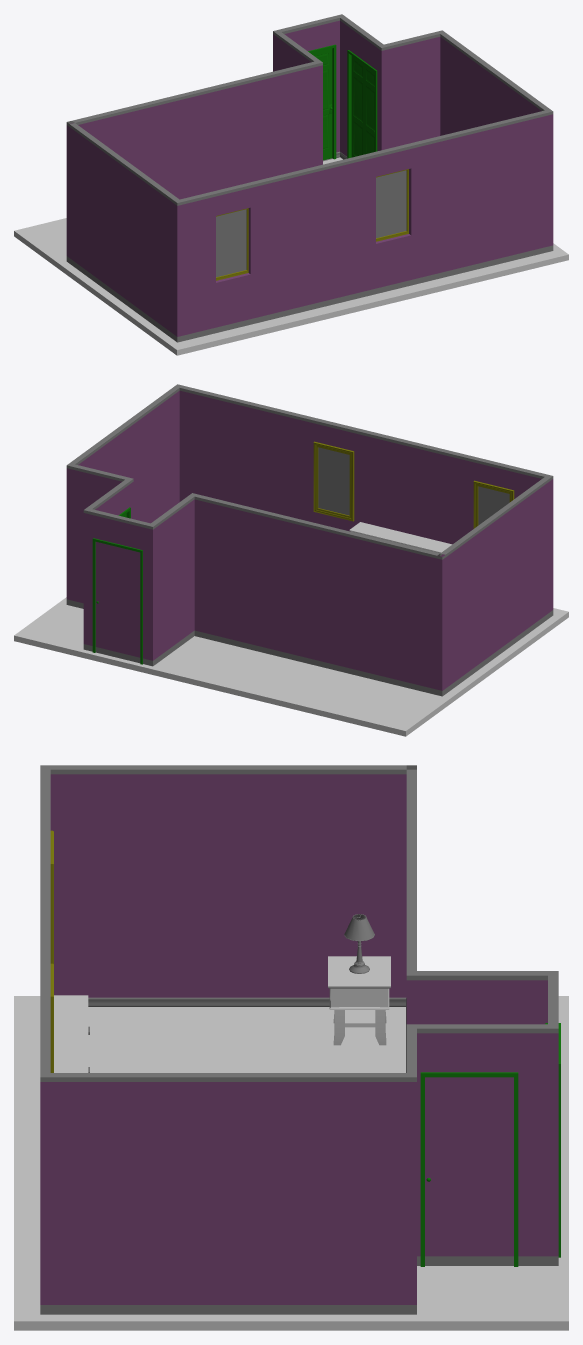
The model's file is FloorPlan216.fbx.
3 views of the same model, one above another, from view 1: azimuth 30°, elevation 25°; view 2: azimuth 150°, elevation 25°; view 3: azimuth 270°, elevation 25° (orthographic). The views are drawn at different scales.
Visible parts, largest first — view 1: StandardWallSize, Floor, Mesh, StandardDoor1, StandardDoor1 (2), StandardDoorFrame1, StandardDoorFrame1 (2); view 2: StandardWallSize, Floor, Mesh, StandardWindow2, TVTable, StandardDoorFrame1 (2), StandardWindow2 (2); view 3: StandardWallSize, Floor, SideTable, TVTable, CoffeeTable, StandardDoorFrame1, Lamp, StandardDoorFrame1 (2).
Part boxes in pixels (left/top/right/bottom): StandardWallSize: left=66, top=14, right=553, bottom=342; Floor: left=14, top=157, right=568, bottom=355; Mesh: left=216, top=170, right=406, bottom=277; StandardDoor1: left=351, top=56, right=374, bottom=157; StandardDoor1 (2): left=311, top=48, right=332, bottom=160; StandardDoorFrame1: left=347, top=50, right=377, bottom=158; StandardDoorFrame1 (2): left=308, top=44, right=336, bottom=159; StandardWallSize: left=66, top=384, right=553, bottom=696; Floor: left=14, top=597, right=568, bottom=736; Mesh: left=318, top=447, right=509, bottom=525; StandardWindow2: left=313, top=441, right=354, bottom=521; TVTable: left=349, top=522, right=452, bottom=553; StandardDoorFrame1 (2): left=92, top=538, right=142, bottom=664; StandardWindow2 (2): left=473, top=480, right=514, bottom=528; StandardWallSize: left=40, top=765, right=558, bottom=1314; Floor: left=14, top=996, right=568, bottom=1330; SideTable: left=328, top=956, right=390, bottom=1045; TVTable: left=54, top=995, right=89, bottom=1072; CoffeeTable: left=171, top=1031, right=233, bottom=1072; StandardDoorFrame1: left=420, top=1072, right=518, bottom=1266; Lamp: left=344, top=914, right=374, bottom=973; StandardDoorFrame1 (2): left=545, top=1023, right=560, bottom=1257.
Bounding box in the file's own units: 735 × 260 × 530.
